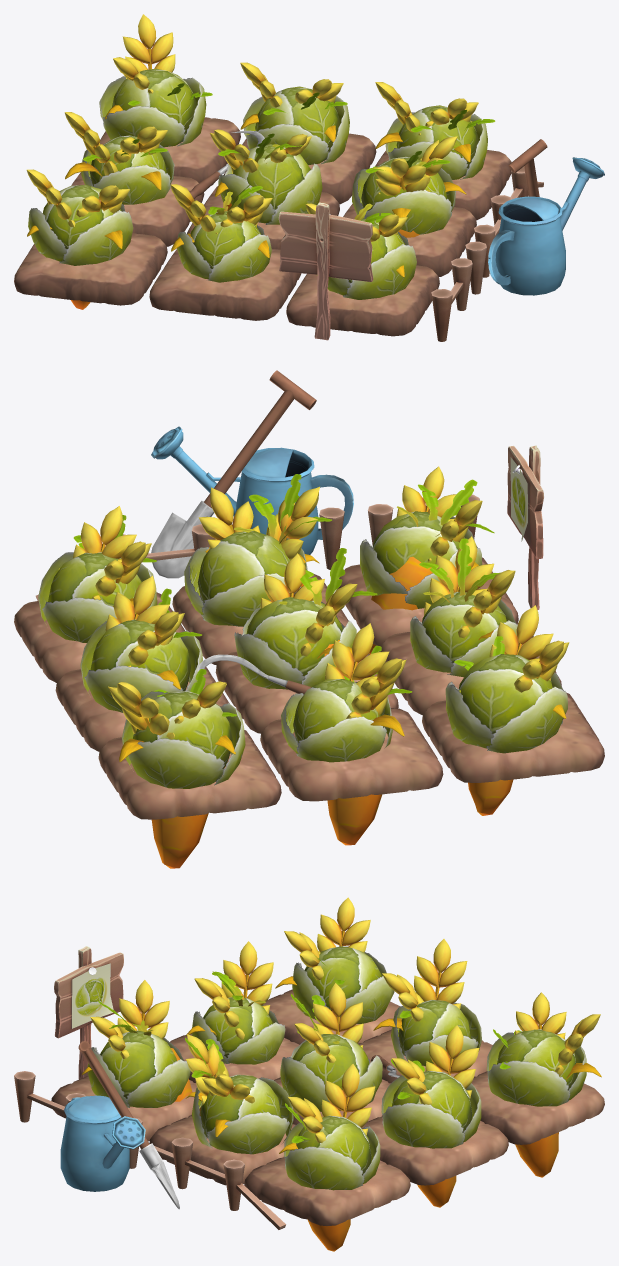
File: Farm.fbx
3 renders of one model, top to bottom at view 1: azimuth 30°, elevation 25°; view 2: azimuth 150°, elevation 25°; view 3: azimuth 270°, elevation 25°, orthographic. The views are drawn at different scales.
Visible parts, largest first — view 1: Watering_Can, Sign_cabbage, soil__6_, soil__3_, Cabbage__8_, soil, Cabbage__6_, Cabbage__5_, Cabbage__3_, Cabbage__4_, Cabbage__1_, Cabbage__2_ (+26 smaller); view 2: Cabbage__6_, soil__7_, Cabbage__8_, soil__6_, soil__8_, Cabbage__1_, Cabbage__4_, Cabbage__5_, Cabbage__7_, Watering_Can, Cabbage__2_, Cabbage__3_ (+29 smaller); view 3: Watering_Can, Cabbage__5_, Cabbage__8_, soil__2_, Cabbage__1_, Cabbage__2_, Cabbage, Cabbage__6_, Sign_cabbage, soil__5_, Cabbage__4_, soil__8_ (+24 smaller).
Boxes of the visible parts, x1,y1,x2,y2 form: Watering_Can: (488,157,604,295); Sign_cabbage: (278,202,373,340); soil__6_: (14,233,167,305); soil__3_: (149,249,301,320); Cabbage__8_: (99,68,206,147); soil: (286,265,439,336); Cabbage__6_: (28,185,133,265); Cabbage__5_: (243,86,349,164); Cabbage__3_: (177,211,271,282); Cabbage__4_: (218,144,322,224); Cabbage__1_: (352,156,455,234); Cabbage__2_: (385,105,487,179); Cabbage__6_: (445,654,567,753); soil__7_: (260,708,443,801); Cabbage__8_: (122,691,245,788); soil__6_: (422,692,604,782); soil__8_: (98,730,281,819); Cabbage__1_: (184,531,308,626); Cabbage__4_: (234,592,356,689); Cabbage__5_: (80,619,202,712); Cabbage__7_: (281,678,392,762); Watering_Can: (151,426,353,554); Cabbage__2_: (38,552,157,642); Cabbage__3_: (410,589,519,677); Watering_Can: (60,1095,145,1191); Cabbage__5_: (381,1071,481,1148); Cabbage__8_: (486,1029,586,1106); soil__2_: (244,1157,410,1225); Cabbage__1_: (192,1074,293,1154); Cabbage__2_: (284,1115,380,1190); Cabbage: (87,1030,190,1107); Cabbage__6_: (292,946,394,1023); Sign_cabbage: (54,946,123,1079); soil__5_: (361,1115,508,1185); Cabbage__4_: (280,1034,382,1111); soil__8_: (471,1071,604,1144).
Size of the model in its own units: 302 by 122 by 317.
